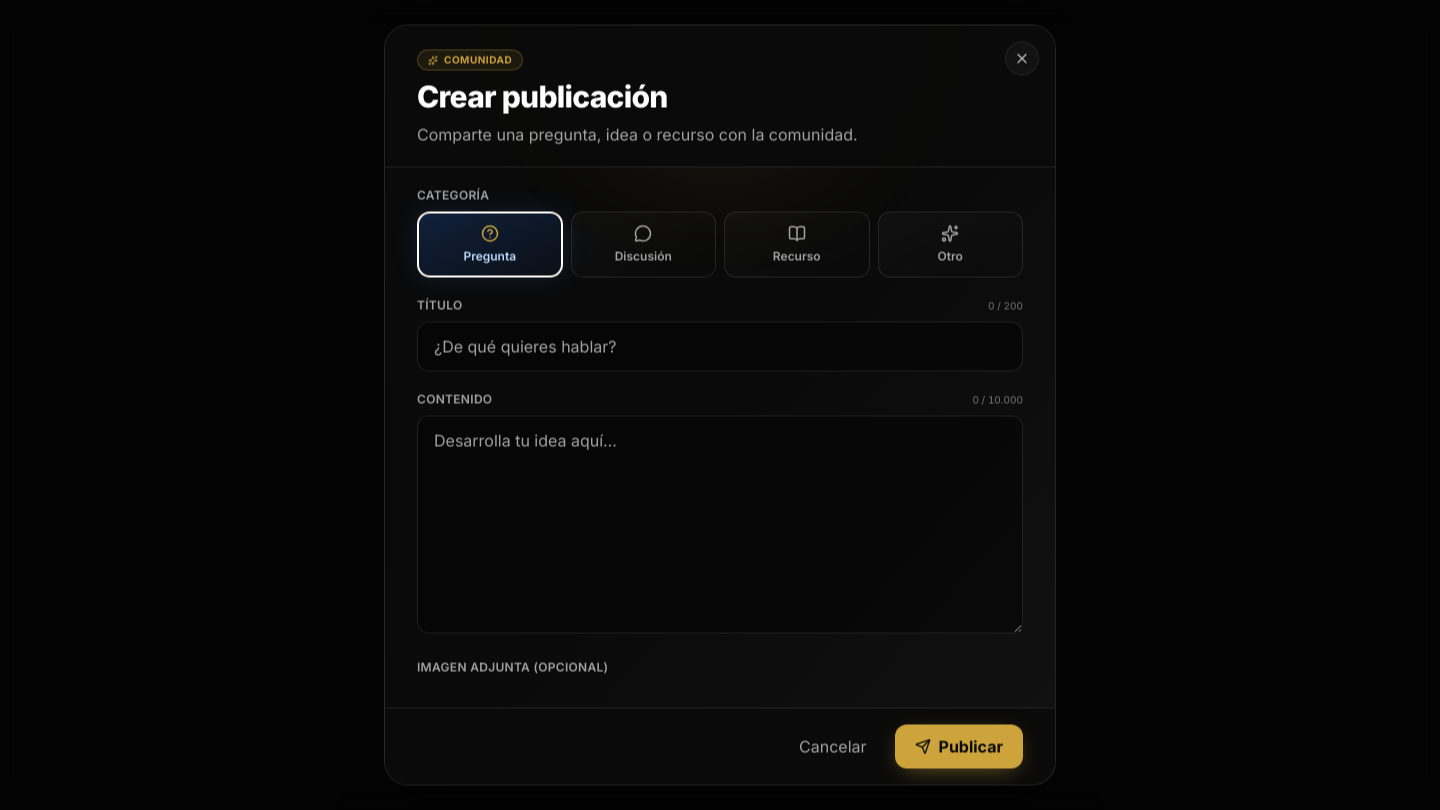
Test: NewPostDialog › valida en línea, junto al campo, y enfoca el primero con error
Click the button "Publicar": coordinates (959, 746) [894, 724, 1023, 768]
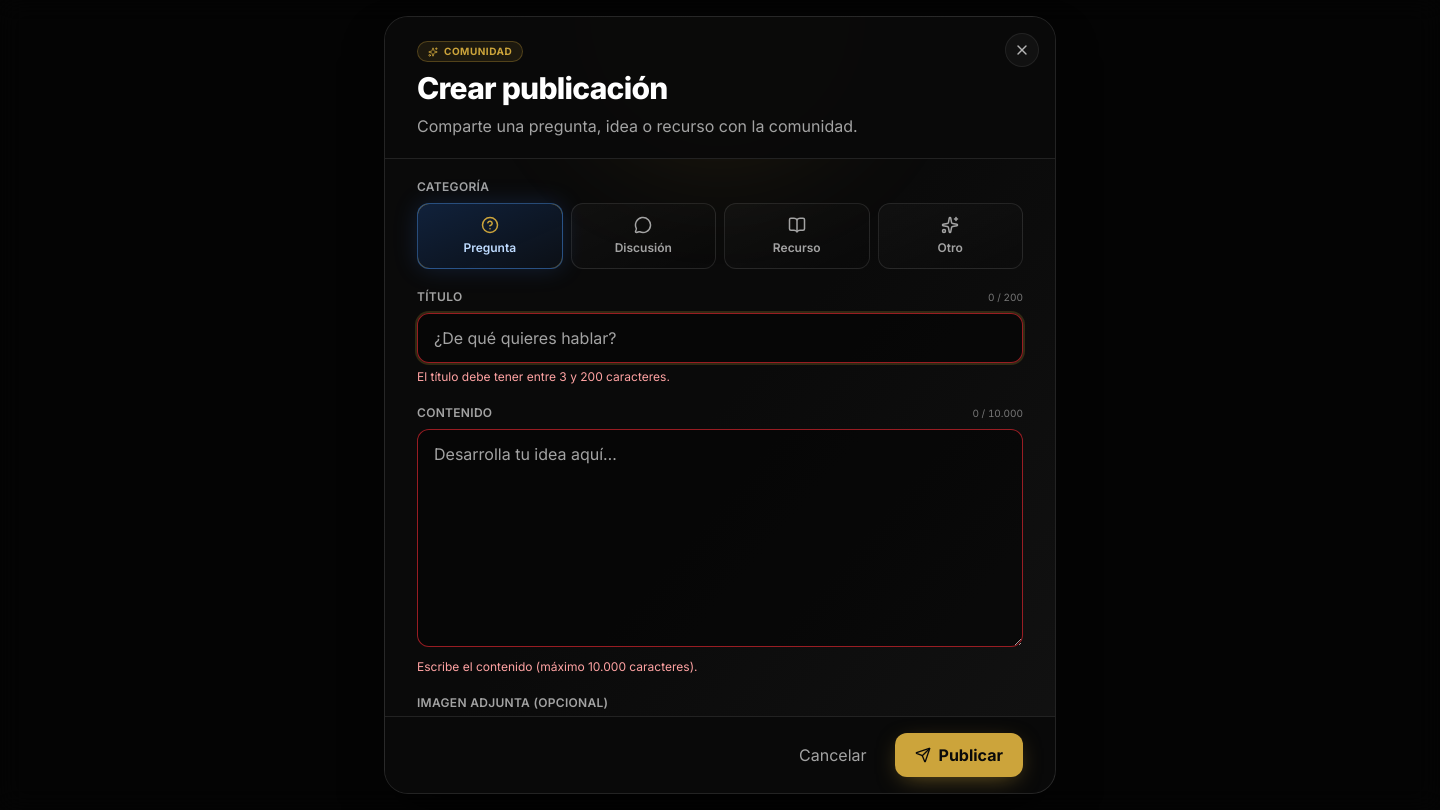
Expected: the text "El título debe tener entre 3 y 200 caracteres." is shown, [417, 369, 670, 384]
